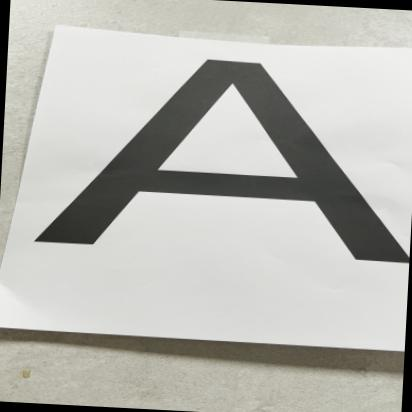seat: (18, 28, 412, 310)
